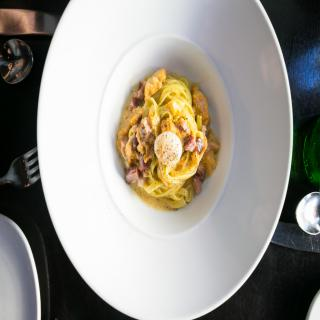Pasta: (118, 70, 221, 208)
